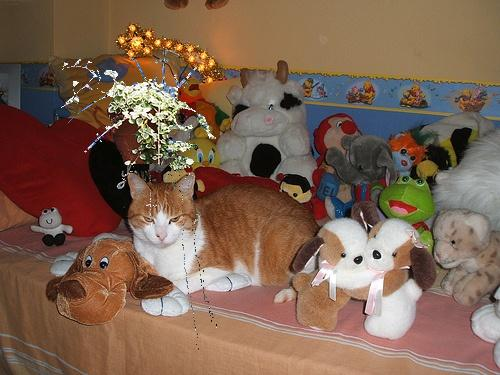tampered: (62, 50, 217, 353)
